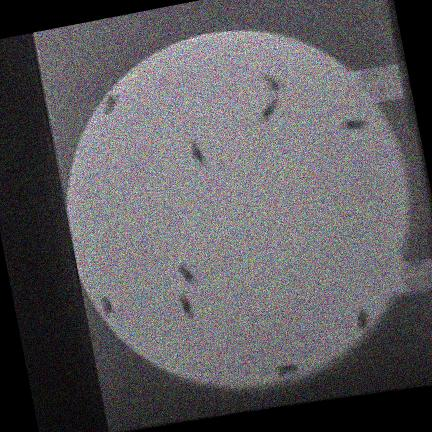fly: (259, 98, 277, 122), (263, 74, 282, 94), (178, 294, 193, 319), (177, 264, 195, 284), (190, 141, 204, 164), (275, 364, 297, 377), (341, 120, 366, 131), (103, 95, 116, 115), (356, 310, 368, 329), (101, 298, 113, 316)
